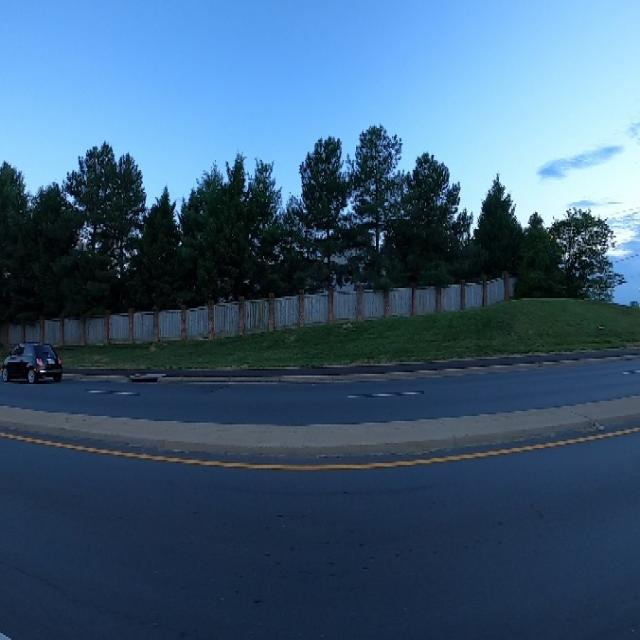car: (0, 327, 68, 392)
